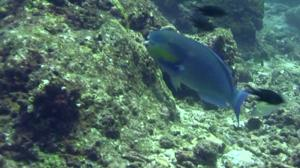Scaridae -Parrotfishes-: (145, 25, 250, 125)
